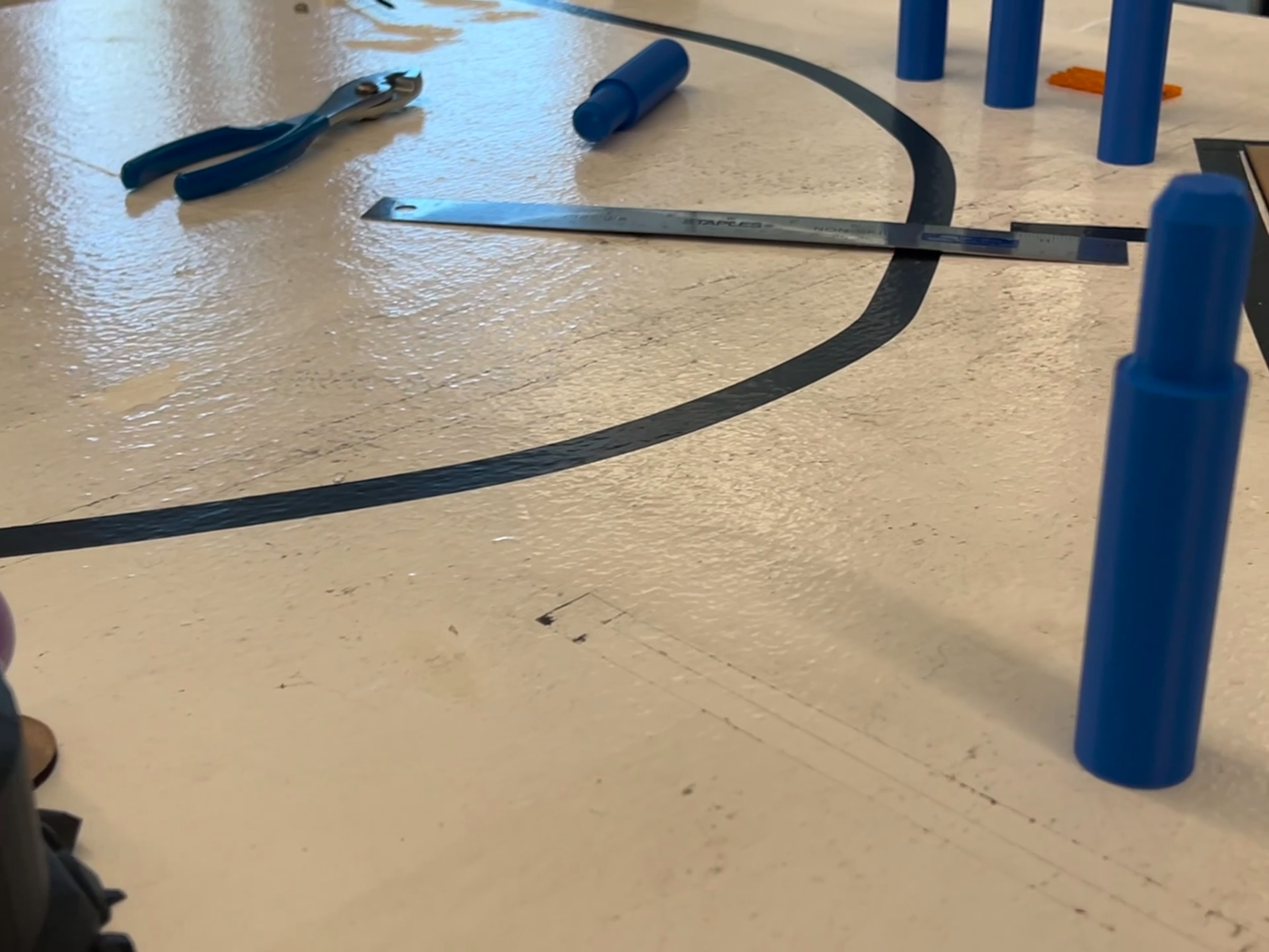teletubby: (0, 594, 15, 672)
